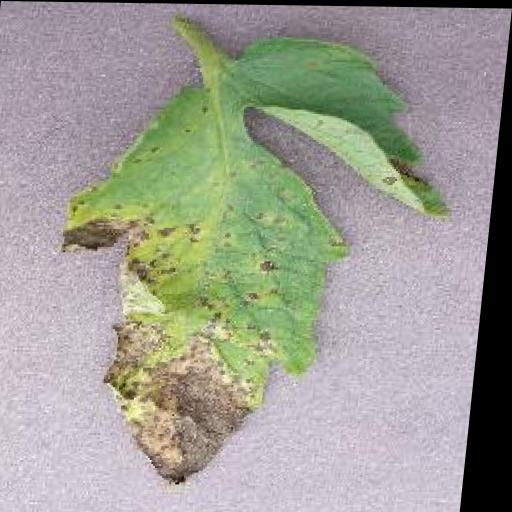Septoria: (49, 31, 467, 483)
